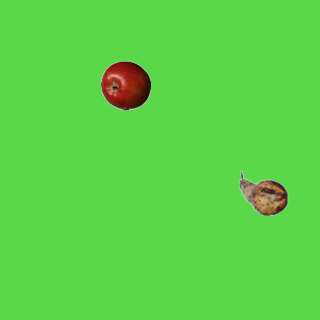Apple Braeburn: (100, 60, 150, 110)
Pear Abate: (238, 168, 288, 218)
